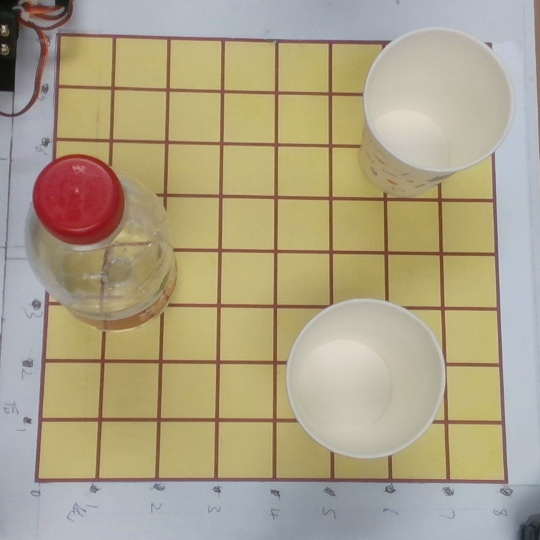bottle: (24, 155, 198, 339)
cup: (347, 27, 500, 207), (281, 297, 448, 460)
